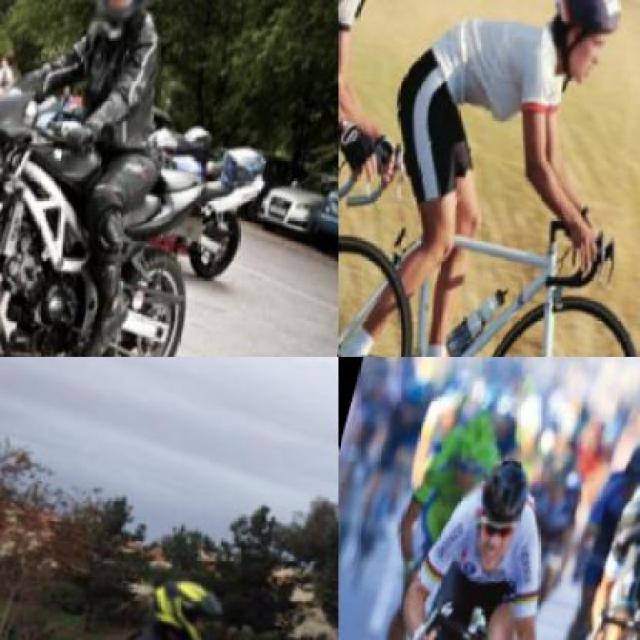With Helmet: (460, 446, 542, 580), (532, 0, 638, 94), (130, 558, 244, 638), (440, 403, 506, 505), (83, 0, 163, 45)
